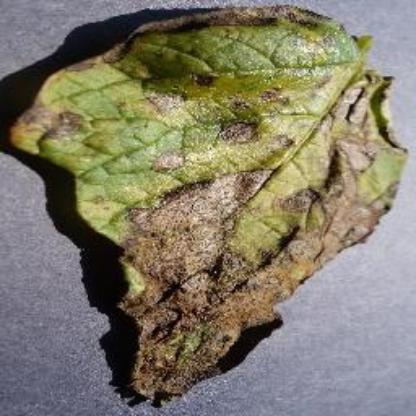Early-Blight: (11, 9, 407, 401)
